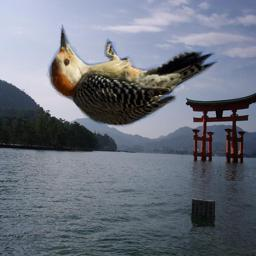Woodpecker: (35, 21, 225, 129)
